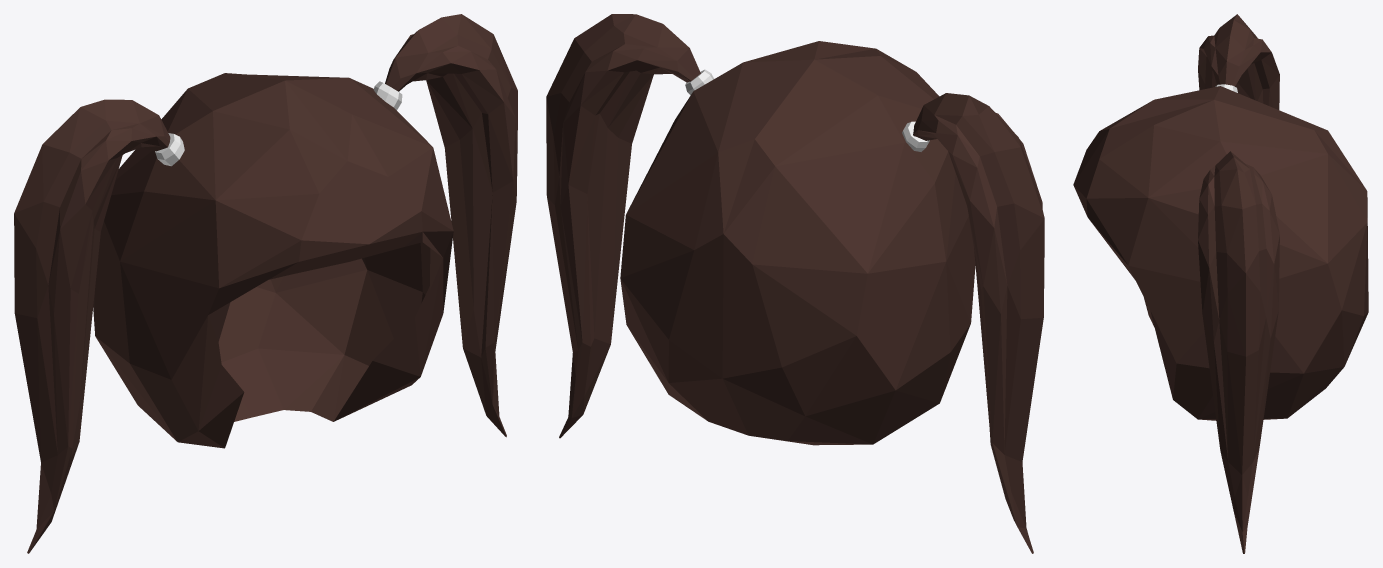
The model's file is PedestrianGirl_Hair_B.fbx.
The picture shows the model from 3 angles, left to right: view 1: azimuth 30°, elevation 25°; view 2: azimuth 150°, elevation 25°; view 3: azimuth 270°, elevation 25°; orthographic projection. The views are drawn at different scales.
Parts seen in each view (by area): view 1: PedestrianGirl_Hair_B; view 2: PedestrianGirl_Hair_B; view 3: PedestrianGirl_Hair_B.
Boxes of the visible parts, x1,y1,x2,y2 form: PedestrianGirl_Hair_B: [14, 14, 517, 553]; PedestrianGirl_Hair_B: [546, 14, 1044, 553]; PedestrianGirl_Hair_B: [1073, 14, 1368, 553].
Size of the model in its own units: 33.28 by 27.86 by 20.26.
